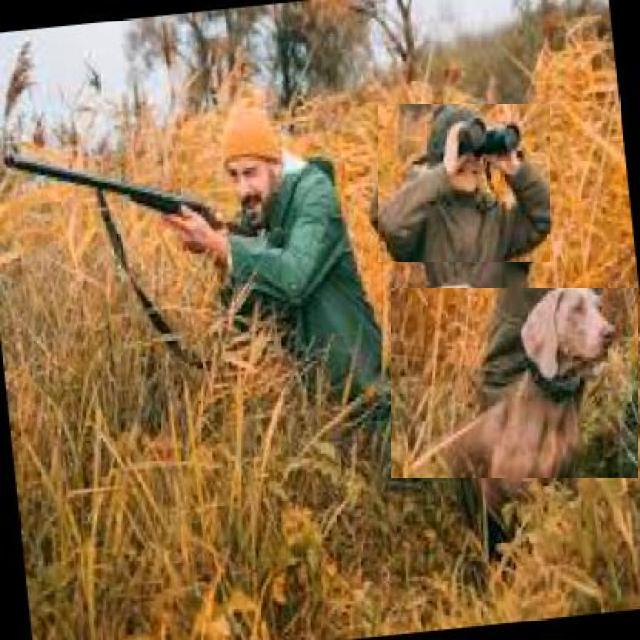p_date: (391, 288, 638, 478)
poacher: (2, 99, 376, 338), (378, 104, 550, 262)
weapon: (6, 140, 240, 263)
